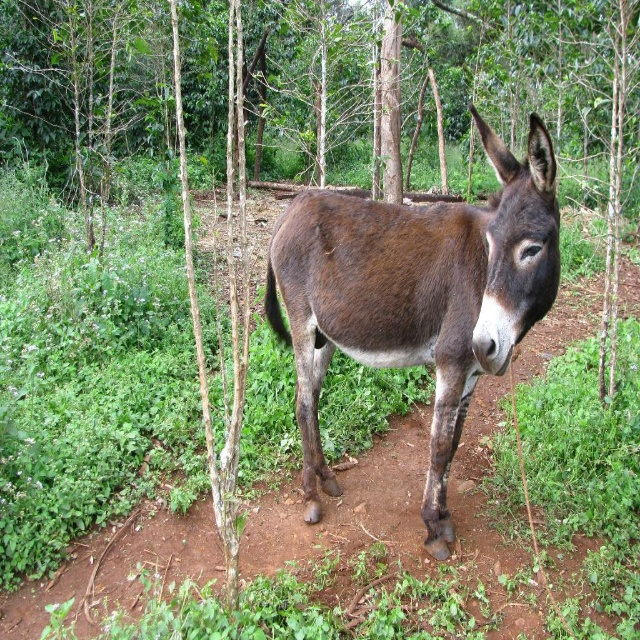Mule: (264, 101, 561, 561)
